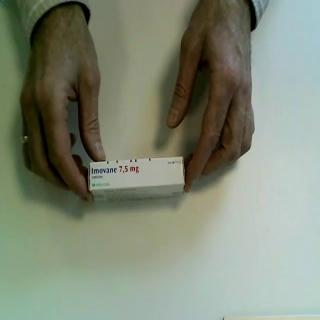imovane7-5mg: (88, 156, 187, 206)
